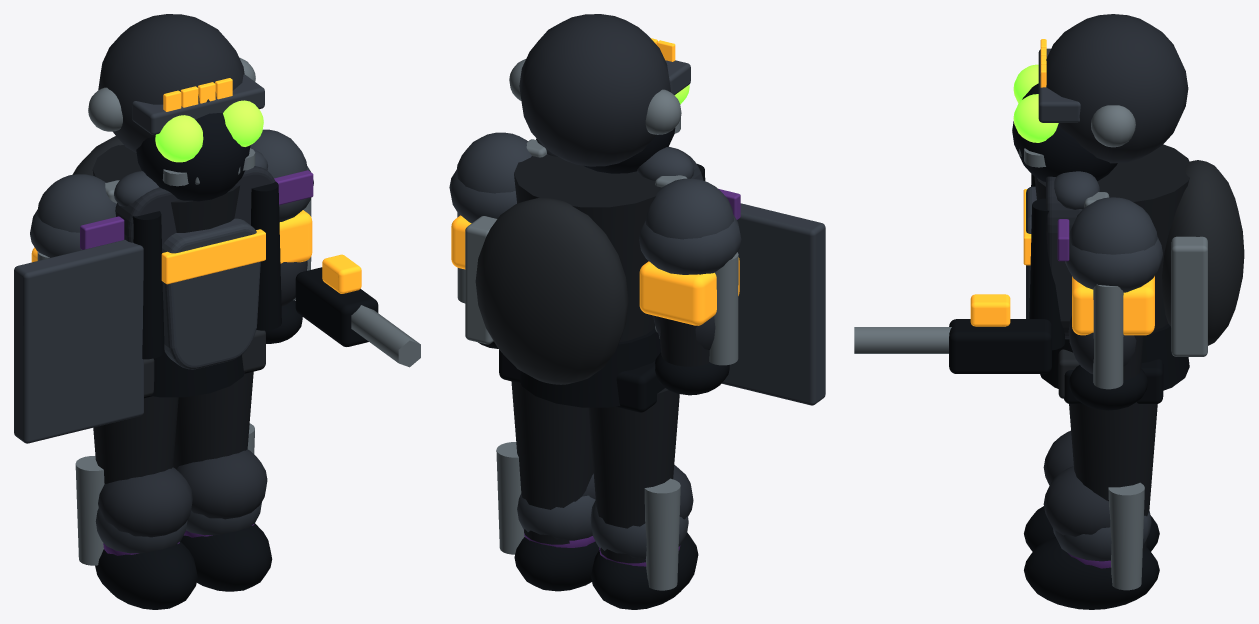
Rendered from assault_l04.glb.
The picture shows the model from 3 angles, left to right: view 1: azimuth 30°, elevation 25°; view 2: azimuth 150°, elevation 25°; view 3: azimuth 270°, elevation 25°; orthographic projection. The views are drawn at different scales.
Visible parts, largest first — view 1: forearm_shield, trouser (×2), rounded_helmet, front_plate, shaped_knee_guard (×2), rounded_boot (×2), vest_tether (×2), enclosed_mask, shoulder_joint (×2), carbine_body, body, dzn_chest_flash (+18 smaller); view 2: shaped_field_pack, rounded_helmet, trouser (×2), forearm_shield, body, shoulder_joint (×2), rounded_boot (×2), shin_frame (×2), shoulder_plate (×2), rank_stripe (×2), knee_plate (×2), waist_flex (+11 smaller); view 3: rounded_helmet, shaped_field_pack, trouser, rounded_boot (×2), body, carbine_body, spare_magazine, shaped_knee_guard (×2), shoulder_joint, shin_frame, shoulder_plate, forearm_seam (+20 smaller).
Boxes of the visible parts, <box> form: forearm_shield: <box>14,240,143,443</box>; trouser (×2): <box>93,371,253,483</box>; rounded_helmet: <box>98,14,244,152</box>; front_plate: <box>162,218,260,369</box>; shaped_knee_guard (×2): <box>98,449,267,537</box>; rounded_boot (×2): <box>95,523,272,609</box>; vest_tether (×2): <box>132,181,281,359</box>; enclosed_mask: <box>136,113,250,201</box>; shoulder_joint (×2): <box>37,129,306,232</box>; carbine_body: <box>295,267,378,346</box>; body: <box>92,145,239,232</box>; dzn_chest_flash: <box>161,229,265,284</box>; shaped_field_pack: <box>475,197,628,384</box>; rounded_helmet: <box>519,14,671,166</box>; trouser (×2): <box>511,381,679,563</box>; forearm_shield: <box>722,203,825,405</box>; body: <box>514,154,661,341</box>; shoulder_joint (×2): <box>456,132,733,239</box>; rounded_boot (×2): <box>514,532,698,609</box>; shin_frame (×2): <box>496,442,680,590</box>; shoulder_plate (×2): <box>449,170,741,274</box>; rank_stripe (×2): <box>451,215,739,325</box>; knee_plate (×2): <box>517,494,688,559</box>; waist_flex: <box>520,328,660,407</box>; rounded_helmet: <box>1040,14,1188,163</box>; shaped_field_pack: <box>1162,160,1244,345</box>; trouser: <box>1069,402,1157,551</box>; rounded_boot (×2): <box>1024,506,1159,609</box>; body: <box>1034,144,1189,330</box>; carbine_body: <box>949,319,1051,373</box>; spare_magazine: <box>1171,236,1207,356</box>; shaped_knee_guard (×2): <box>1043,430,1110,536</box>; shoulder_joint: <box>1069,197,1157,254</box>; shin_frame: <box>1108,482,1144,590</box>; shoulder_plate: <box>1065,236,1162,292</box>; forearm_seam: <box>1093,284,1123,389</box>.
Size of the model in its own units: 1.12 by 1.88 by 1.18.
